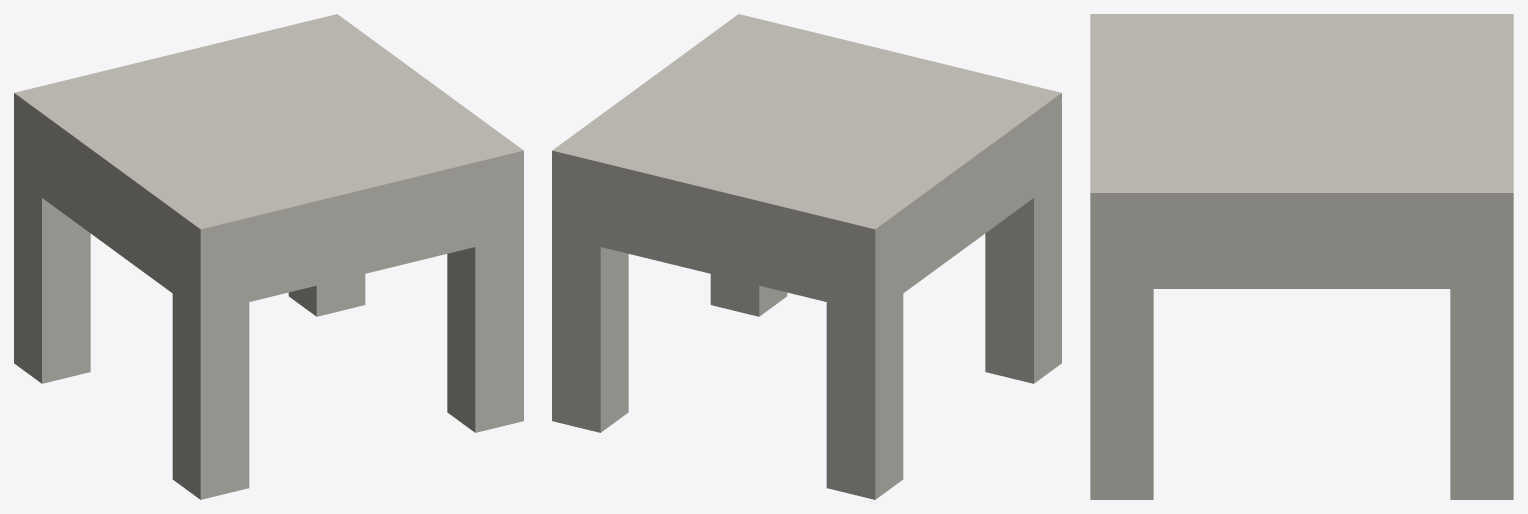
The model's file is white_small_table.fbx.
3 renders of one model, left to right at view 1: azimuth 30°, elevation 25°; view 2: azimuth 150°, elevation 25°; view 3: azimuth 270°, elevation 25°, orthographic. The views are drawn at different scales.
Parts seen in each view (by area): view 1: Cube; view 2: Cube; view 3: Cube.
Part boxes in pixels (x1,y1,x2,y2): Cube: (14,14,523,499); Cube: (552,14,1061,499); Cube: (1090,14,1513,499).
Bounding box in the file's own units: 200 × 160 × 200.
